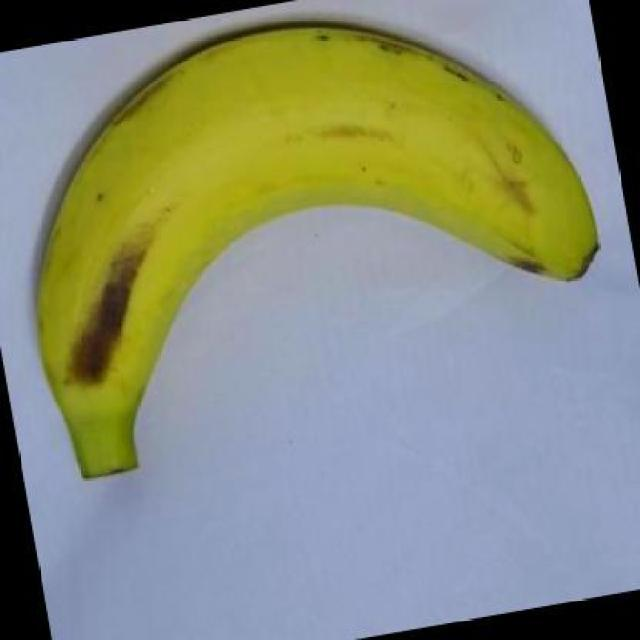ripe: (14, 12, 620, 490)
